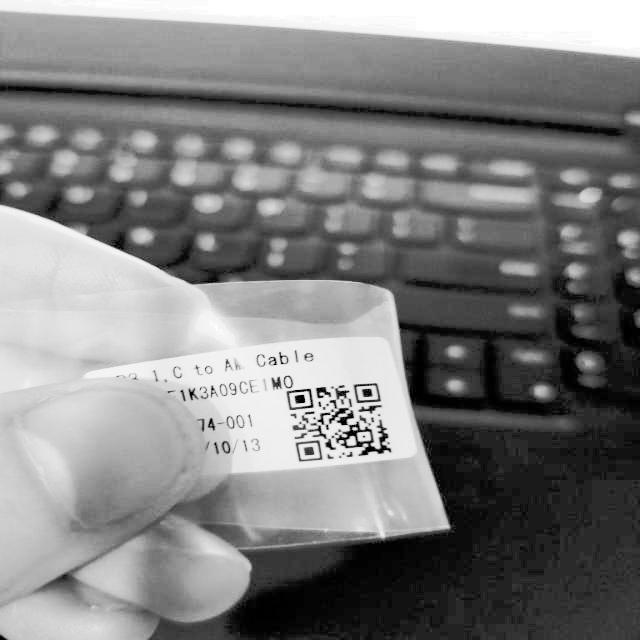qr_code: (272, 365, 403, 476)
